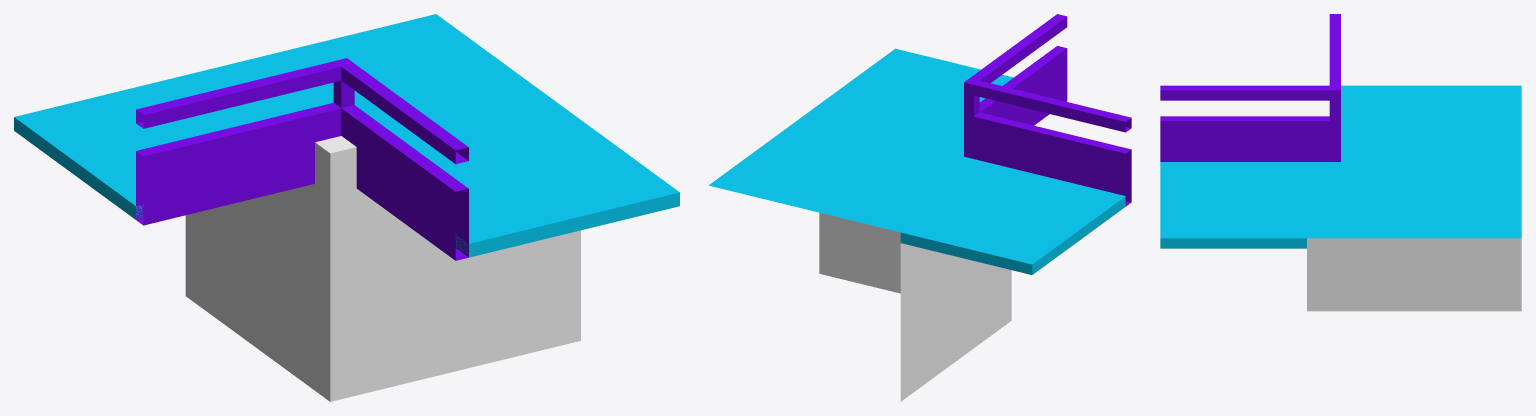
3 views of the same model, side by side, from view 1: azimuth 30°, elevation 25°; view 2: azimuth 150°, elevation 25°; view 3: azimuth 270°, elevation 25° (orthographic). The views are drawn at different scales.
Visible parts, largest first — view 1: None_W_P_E_E_P_E_E_E_None; view 2: None_W_P_E_E_P_E_E_E_None; view 3: None_W_P_E_E_P_E_E_E_None.
Boxes of the visible parts, x1=… form: None_W_P_E_E_P_E_E_E_None: x1=14, y1=14, x2=679, y2=401; None_W_P_E_E_P_E_E_E_None: x1=708, y1=14, x2=1131, y2=401; None_W_P_E_E_P_E_E_E_None: x1=1160, y1=14, x2=1521, y2=311.
Size of the model in its own units: 100 by 71.88 by 100.
